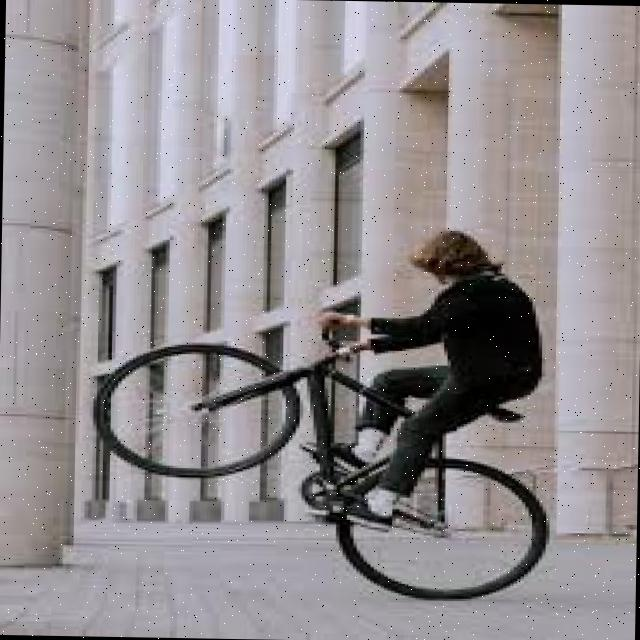Wheeling: (111, 186, 588, 614)
